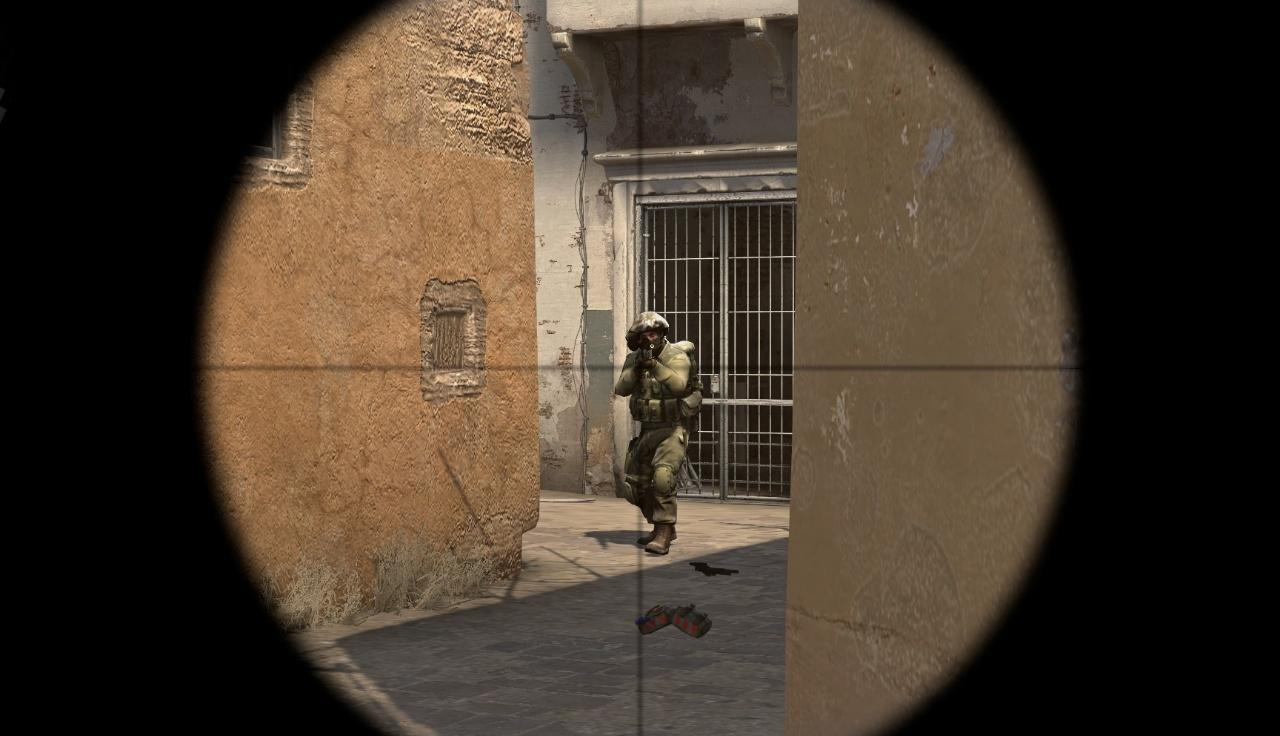ct: (615, 310, 694, 556)
cthead: (635, 313, 666, 352)
